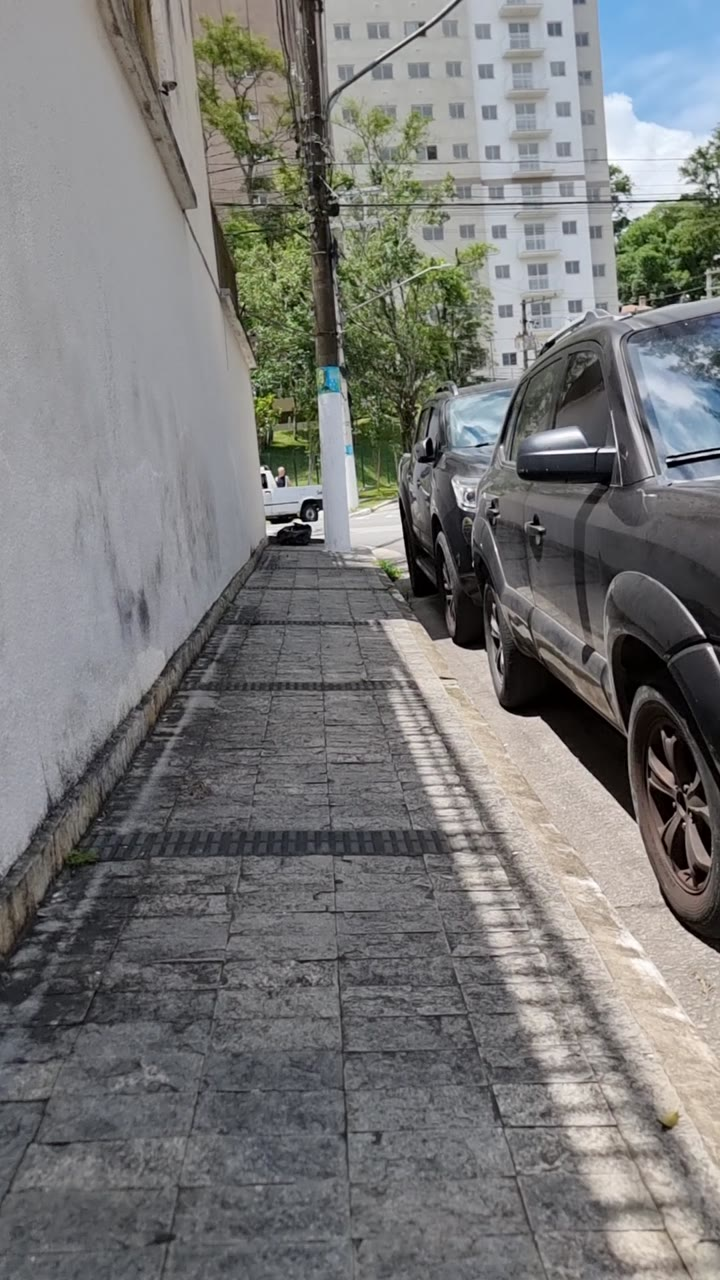obstaculo: (302, 0, 346, 550)
